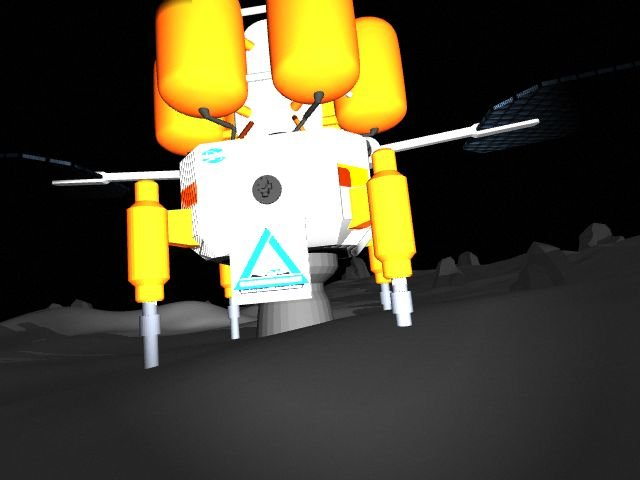basemarker: (232, 227, 310, 295)
